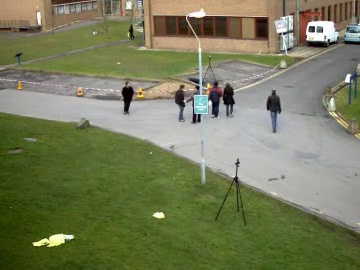person: (174, 84, 191, 120), (121, 82, 136, 113), (121, 81, 135, 113)
